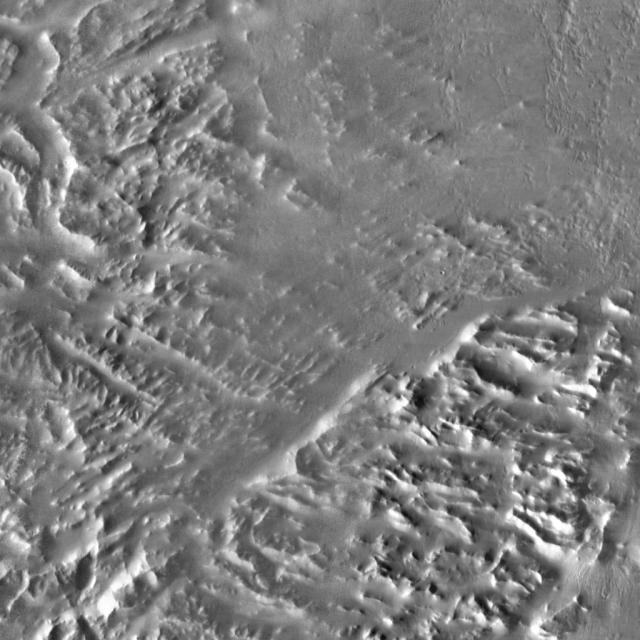crater: (510, 66, 517, 73)
